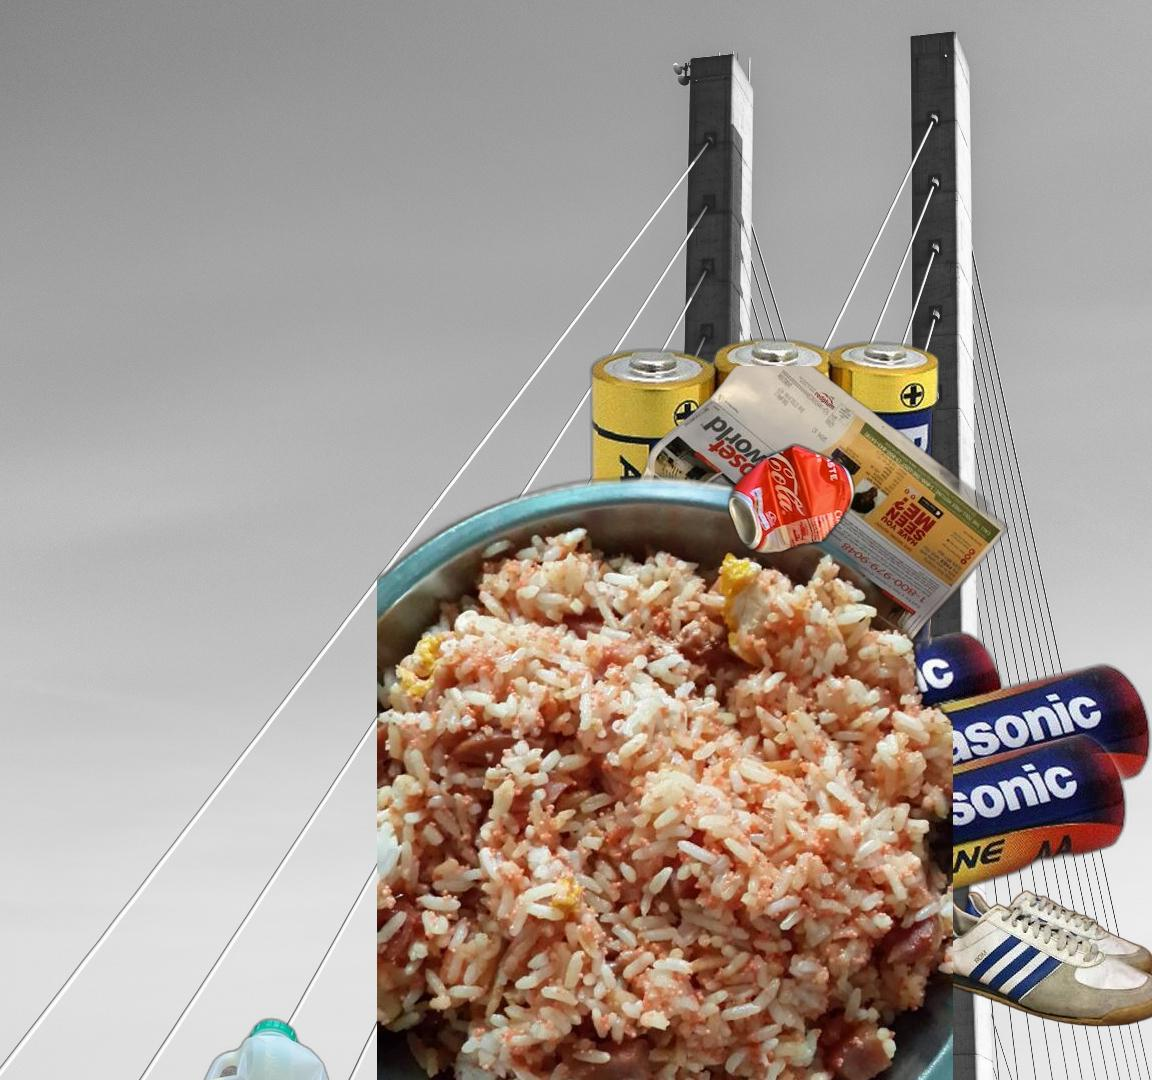battery: (583, 333, 1152, 955)
biological: (377, 469, 953, 1080)
metal-cans: (724, 438, 859, 560)
paper: (573, 366, 1012, 750)
plastic-bottles: (184, 1012, 340, 1080)
shoes: (926, 888, 1152, 1029)
